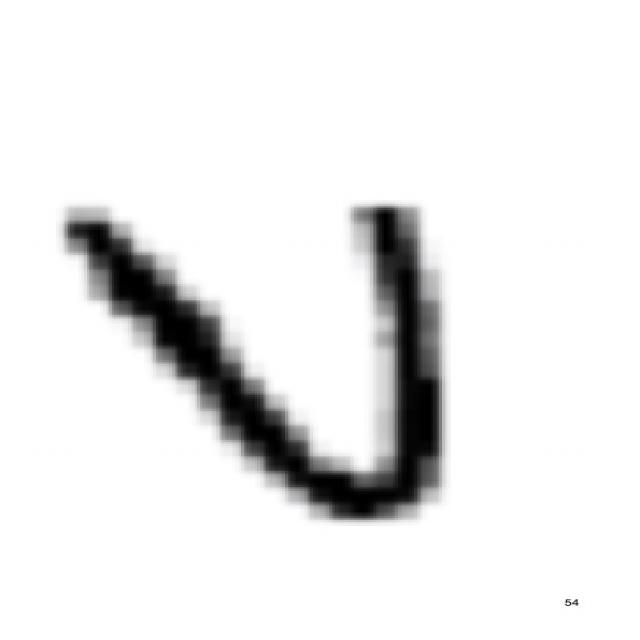7 -seven-: (43, 196, 460, 529)
